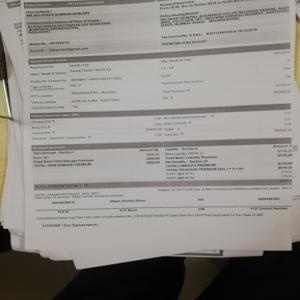table: (23, 42, 291, 106), (33, 137, 300, 179), (20, 105, 291, 142)
